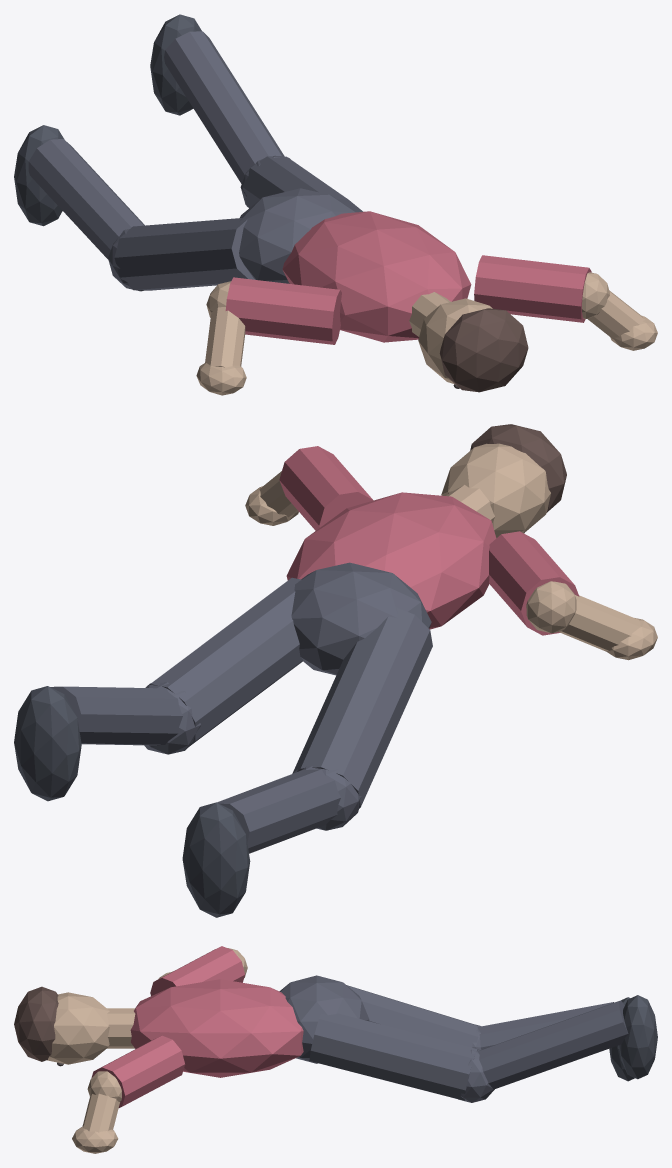
3 views of the same model, one above another, from view 1: azimuth 30°, elevation 25°; view 2: azimuth 150°, elevation 25°; view 3: azimuth 270°, elevation 25° (orthographic). The views are drawn at different scales.
Visible parts, largest first — view 1: world; view 2: world; view 3: world.
Boxes of the visible parts, <box> form: world: <box>14,14,657,395</box>; world: <box>14,424,657,917</box>; world: <box>14,946,657,1153</box>.
Size of the model in its own units: 1.25 by 0.5125 by 2.07.
